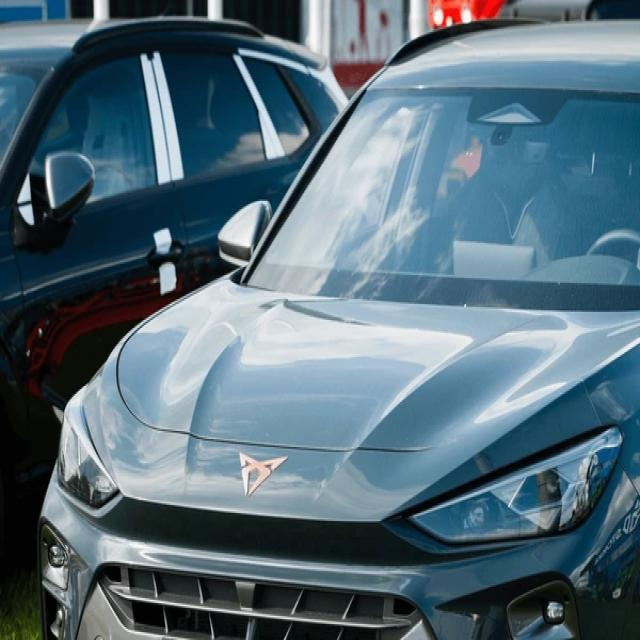cupra: (234, 445, 288, 502)
